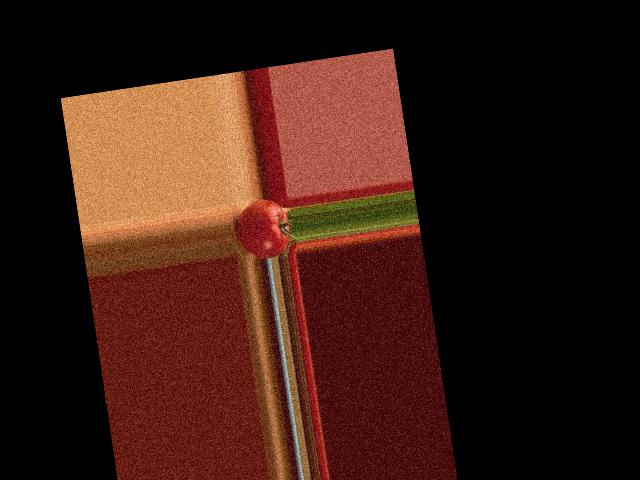tomato: (233, 196, 293, 261)
